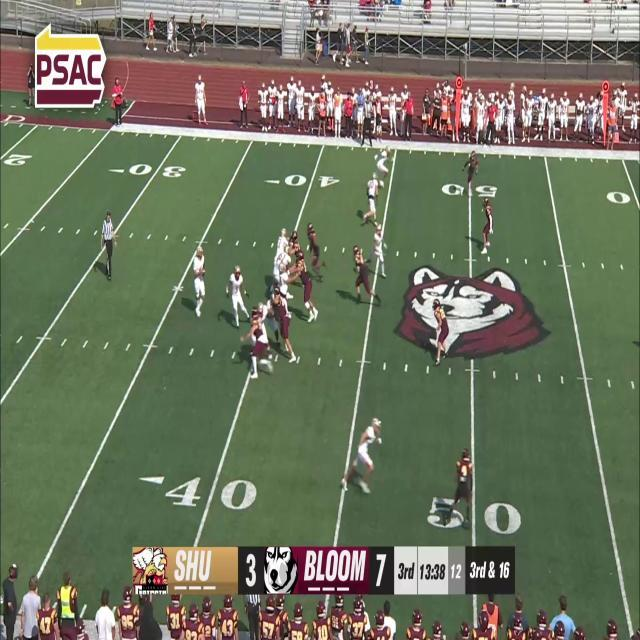football: (201, 267, 205, 276)
